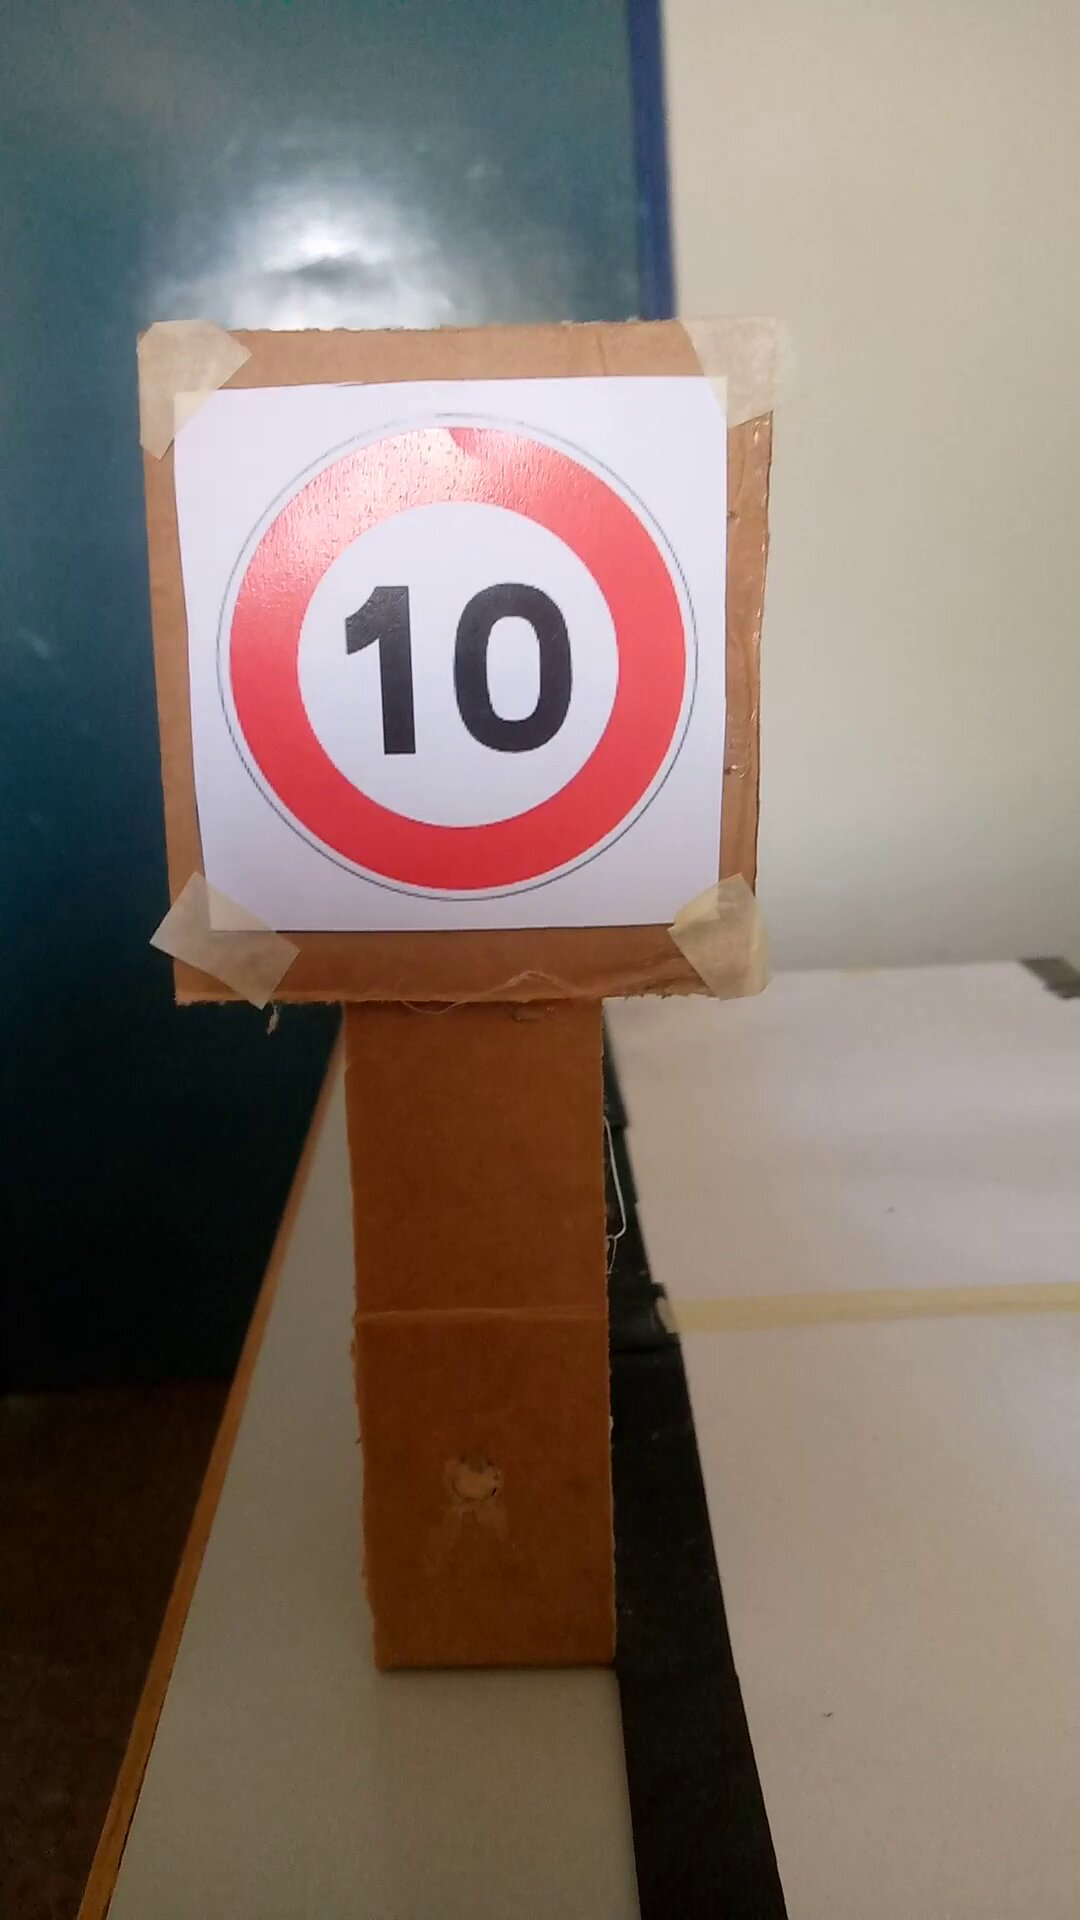panel011: (158, 377, 735, 938)
